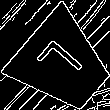L_SE: (35, 36, 92, 93)
